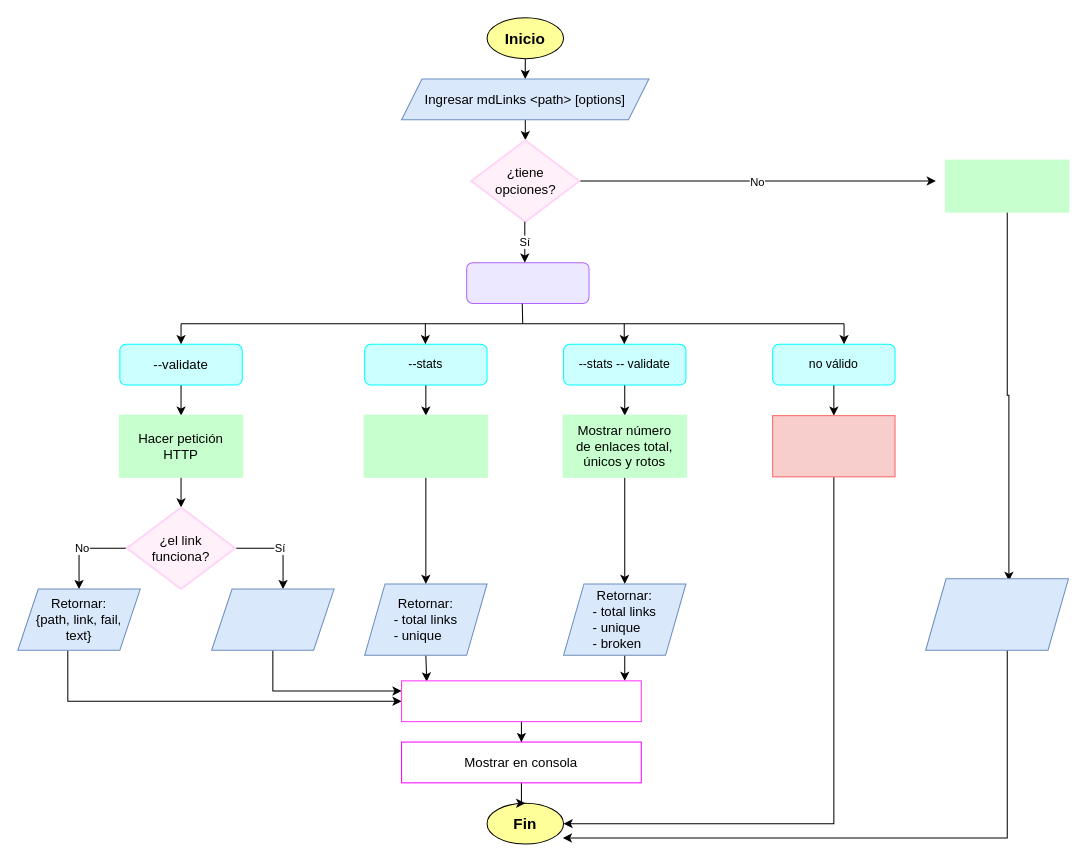
Image size: 1087x864. Some labels were removed from this diagram. The centre of each missing label's shape, as x and y in pixels:
"Imprimir los links" goes at [1007,185].
"Mensaje de error. Comando inválido" goes at [833,446].
"Mostrar número de enlaces total y únicos" goes at [425,445].
"Options" goes at [527,282].
"Retornar: - ruta del archivo - el texto del link" goes at [996,614].
"Retornar: {path, link, ok, text}" goes at [272,619].
"Truncado a 50 carácteres" goes at [521,701].
